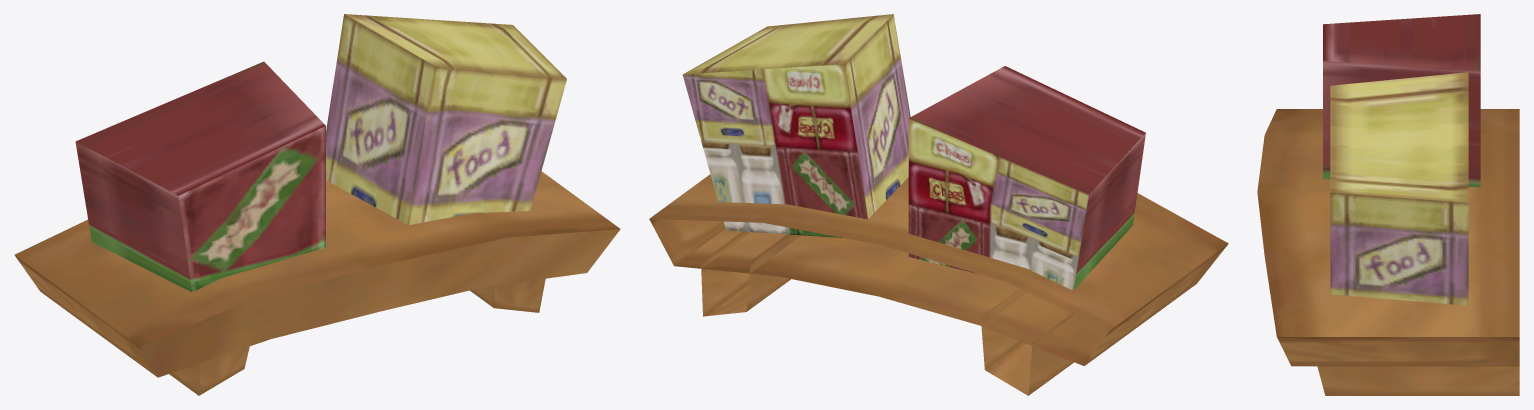
The model's file is tana8_1.glb.
3 renders of one model, left to right at view 1: azimuth 30°, elevation 25°; view 2: azimuth 150°, elevation 25°; view 3: azimuth 270°, elevation 25°, orthographic. The views are drawn at different scales.
Visible parts, largest first — view 1: tana8_1; view 2: tana8_1; view 3: tana8_1.
Boxes of the visible parts, x1,y1,x2,y2 form: tana8_1: (14,14,620,395); tana8_1: (649,14,1228,395); tana8_1: (1257,14,1519,395).
Size of the model in its own units: 222 by 121 by 108.
4 materials, 4 textured.
